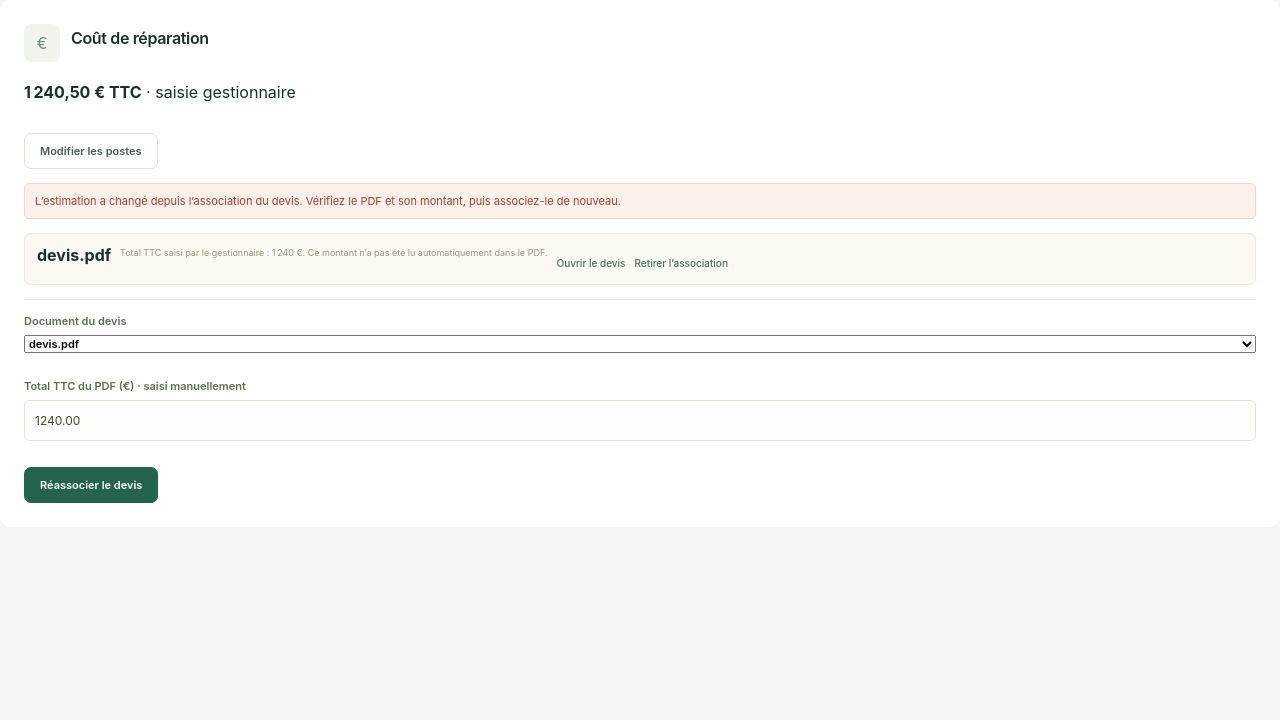
Test: reassociates the selected PDF through the real API client with exact cents and the current version
Replace the text in the field labelled "Total TTC du PDF (€) · saisi manuellement" with "1240,50" at (640, 421), box [24,400,1256,441]
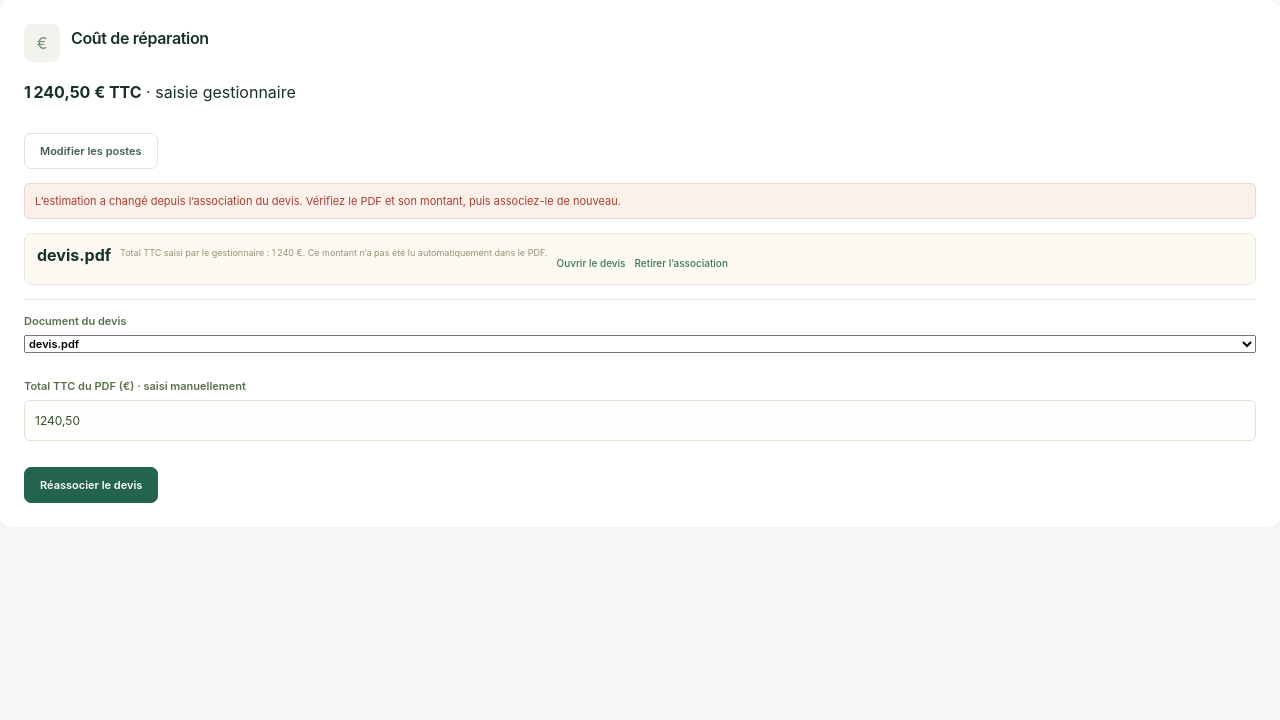
Click the button "Réassocier le devis" at (91, 485), box [24,467,158,503]
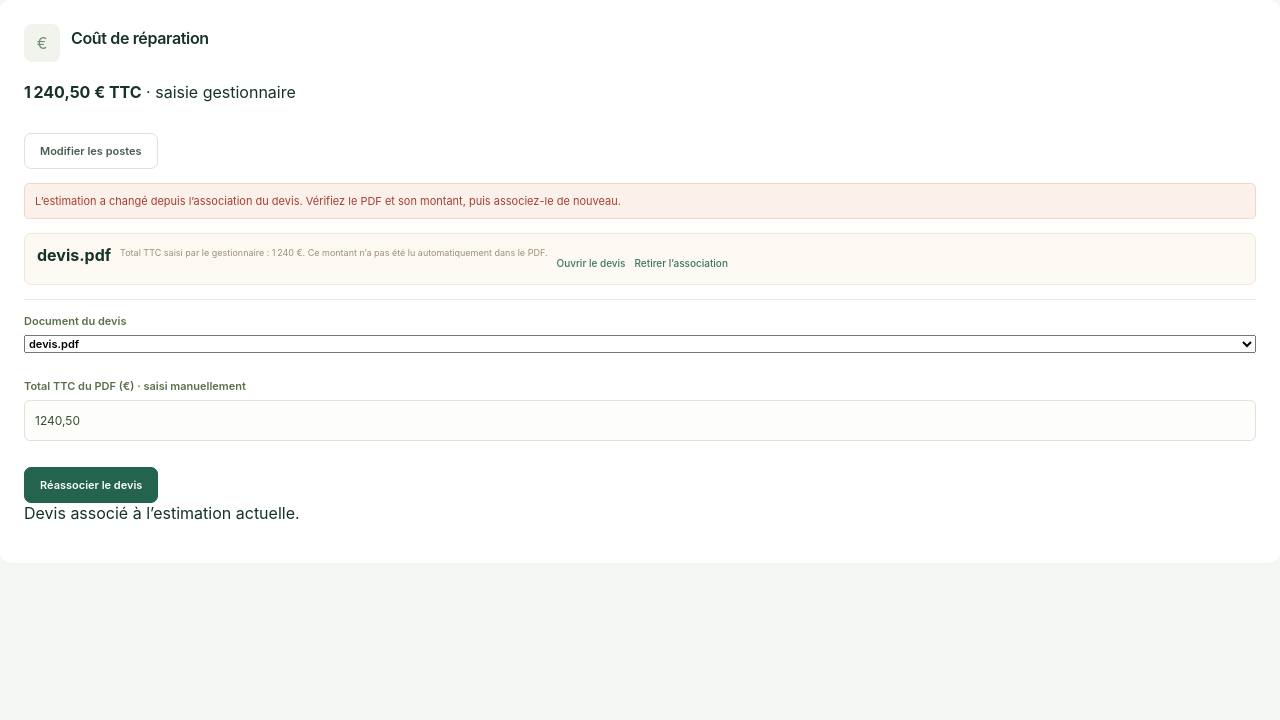
Check: the text "Devis associé à l’estimation actuelle." is shown, box [24,503,300,523]
